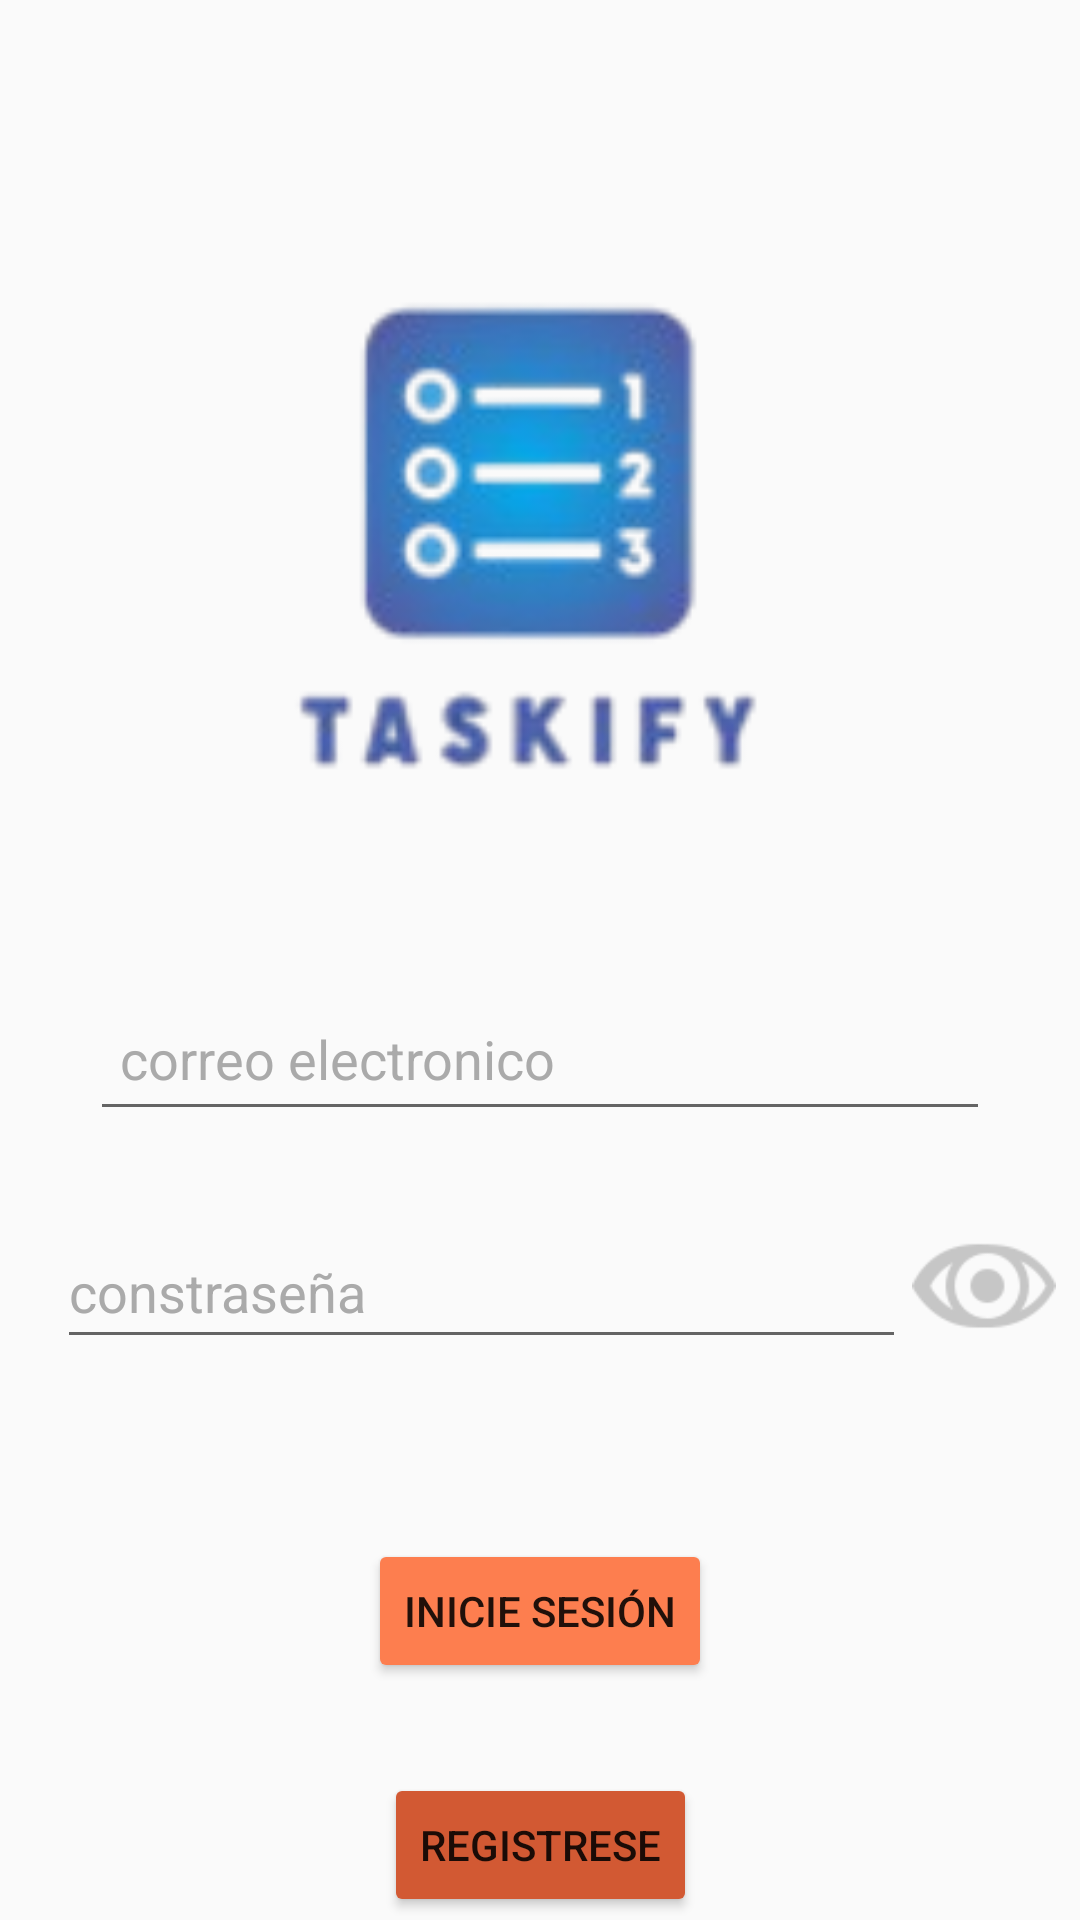

Locate icon controls on the screen. Image size 1080*1920, boxes as (x1, y1, x2, y2).
iconojogris: (912, 1244, 1056, 1328)
